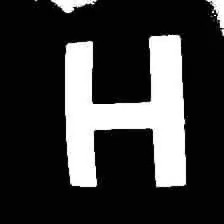LTR_H: (57, 22, 197, 197)
